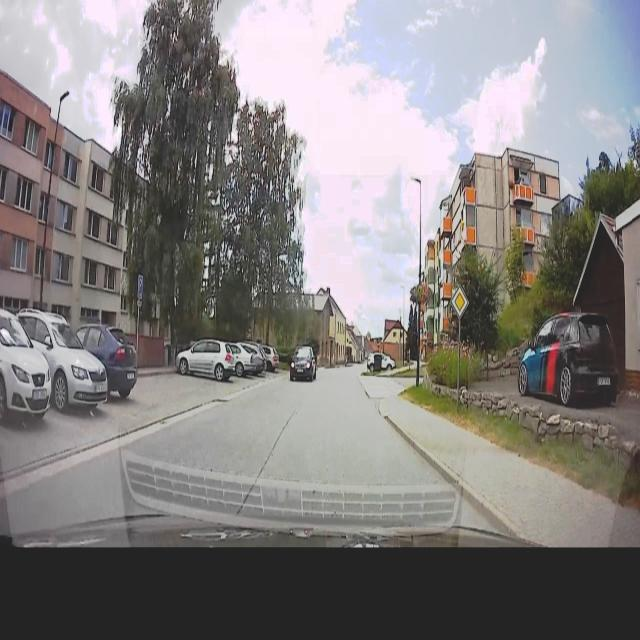Priority road: (449, 284, 471, 320)
